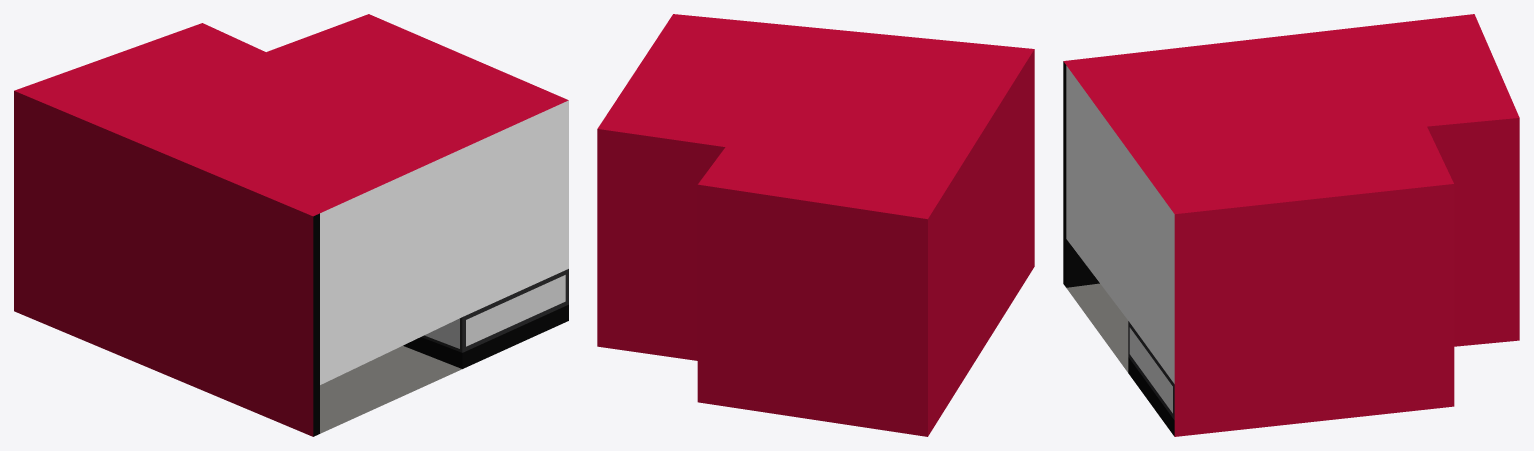
File: Jerk Hut.fbx
3 renders of one model, left to right at view 1: azimuth 30°, elevation 25°; view 2: azimuth 150°, elevation 25°; view 3: azimuth 270°, elevation 25°, orthographic. The views are drawn at different scales.
Visible parts, largest first — view 1: Jerk Hut; view 2: Jerk Hut; view 3: Jerk Hut.
Part boxes in pixels (x1,y1,x2,y2): Jerk Hut: (14,14,568,436); Jerk Hut: (597,14,1034,436); Jerk Hut: (1063,14,1519,436).
Bounding box in the file's own units: 1270 × 658 × 1223.
